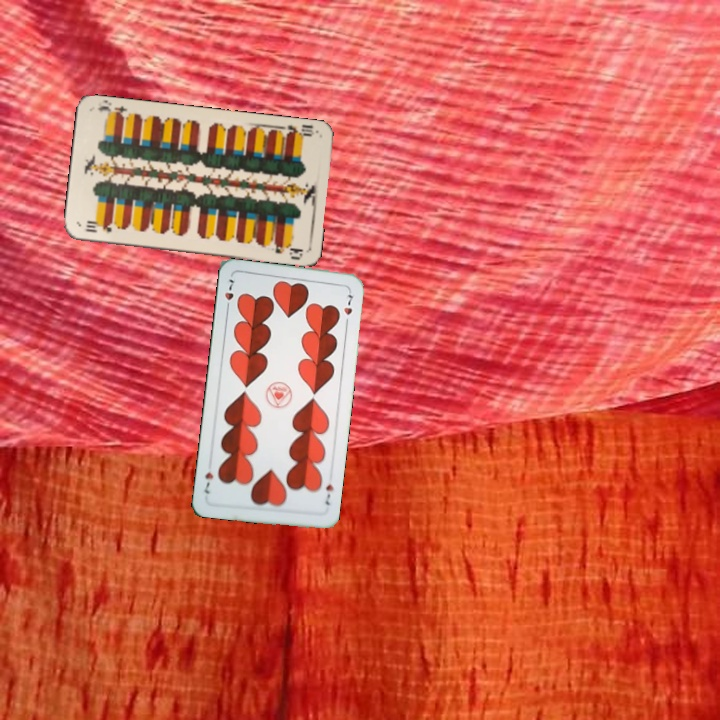E10: (278, 121, 319, 141), (82, 220, 114, 235)
H7: (221, 275, 237, 314), (321, 474, 336, 508)
